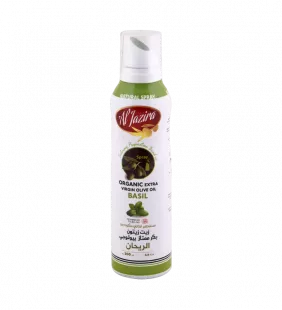AL JAZIRA: (100, 20, 180, 284)
